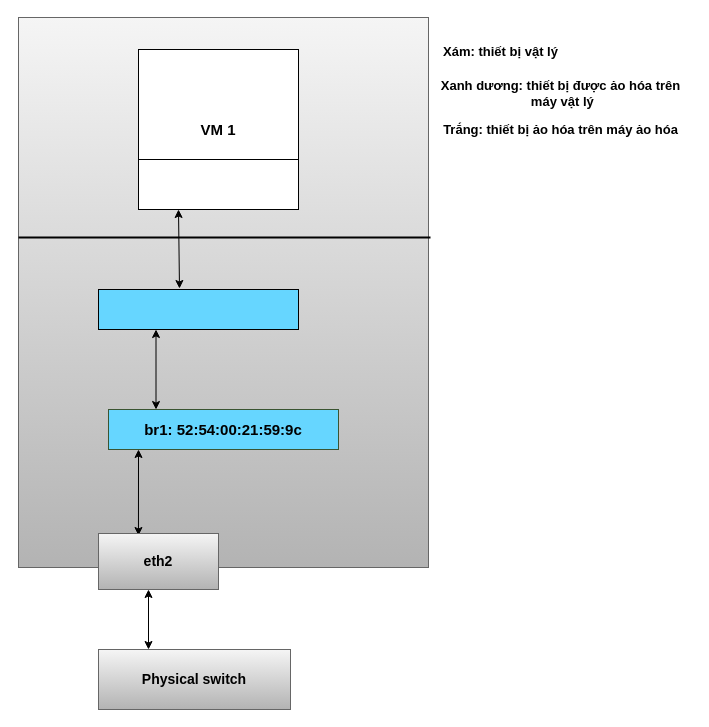
This 709x727 diagram has some shape labels left out. The shapes that lost their labels are listed below. From the top down, each one's centre as x and y in pixels, then its label:
the point at 218,184: eth0: 52:54:00:77:e9:91
the point at 198,309: vnet 2: fe:54:00:77:e9:91
